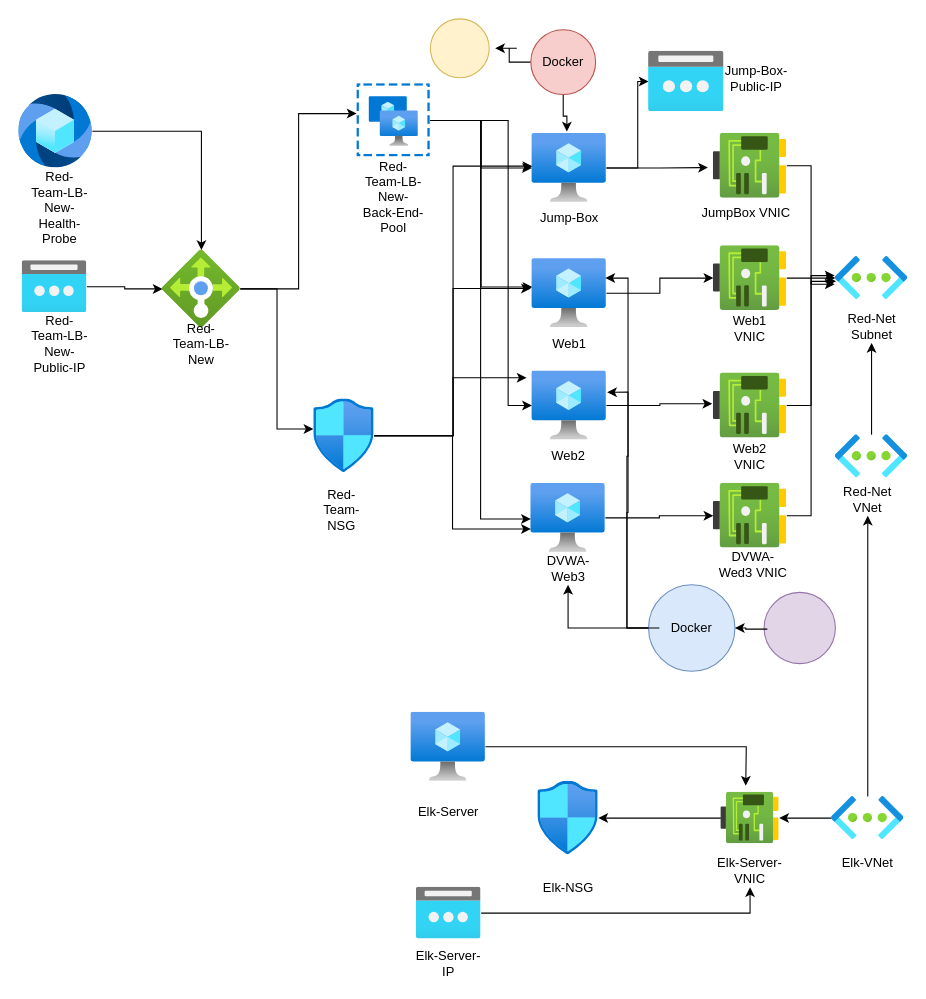
The diagram is 926 pixels wide and 999 high, and some of its shapes have lost their labels. Here are the shapes that lost their labels. From the top down, the box of each, then its label:
(429, 18, 489, 78): Ansible
(763, 591, 835, 664): DVWA
